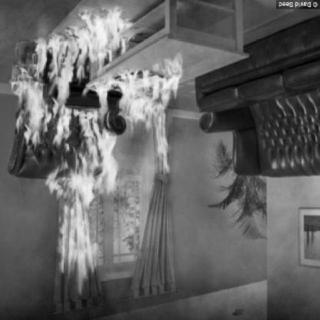Fire: (14, 39, 106, 282), (114, 58, 178, 166)
